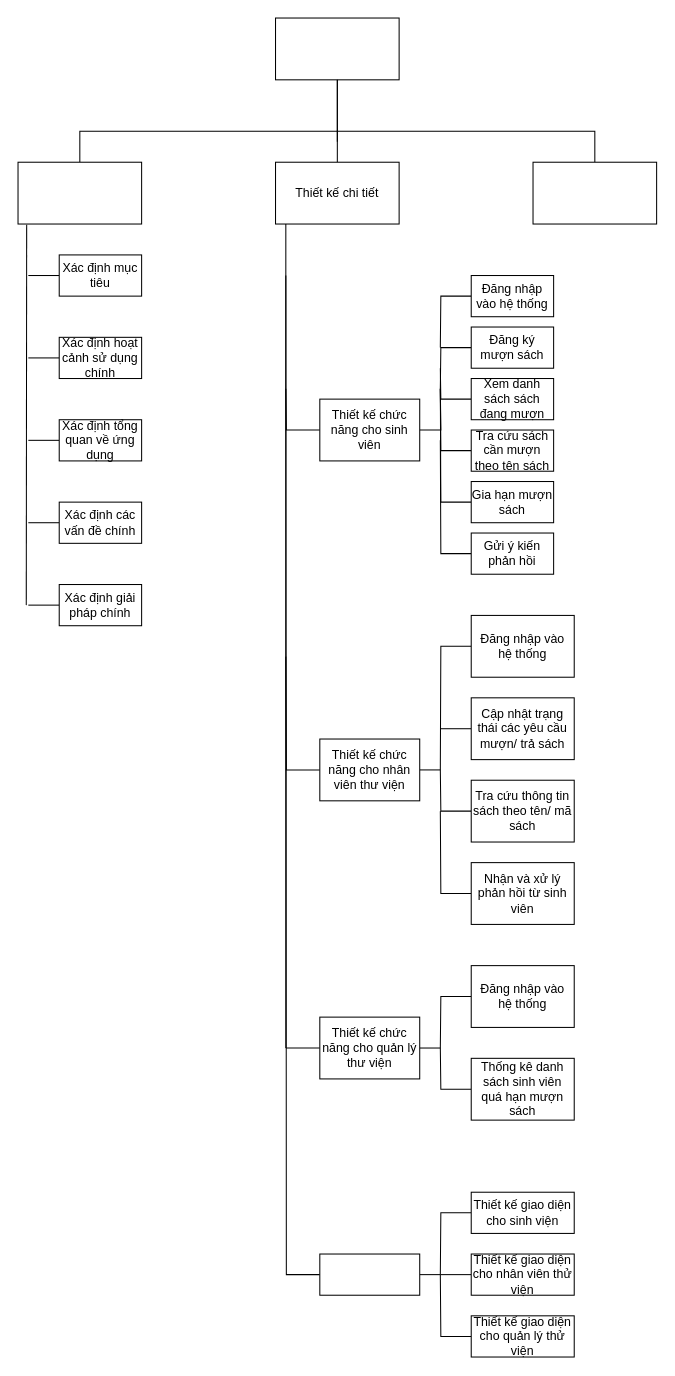
Some shapes in this 675 by 1376 pixel diagram are drawn without their labels. The shapes that lost their labels are listed below. From the top down, each one's centre as x and y in pixels, then its label:
At point 336,48: "Thiêt kế".
At point 79,192: "Thiết kế kiến trúc".
At point 594,192: "Thiết kế cơ sở dữ liệu".
At point 369,1274: "Thiết kế giao diện".
